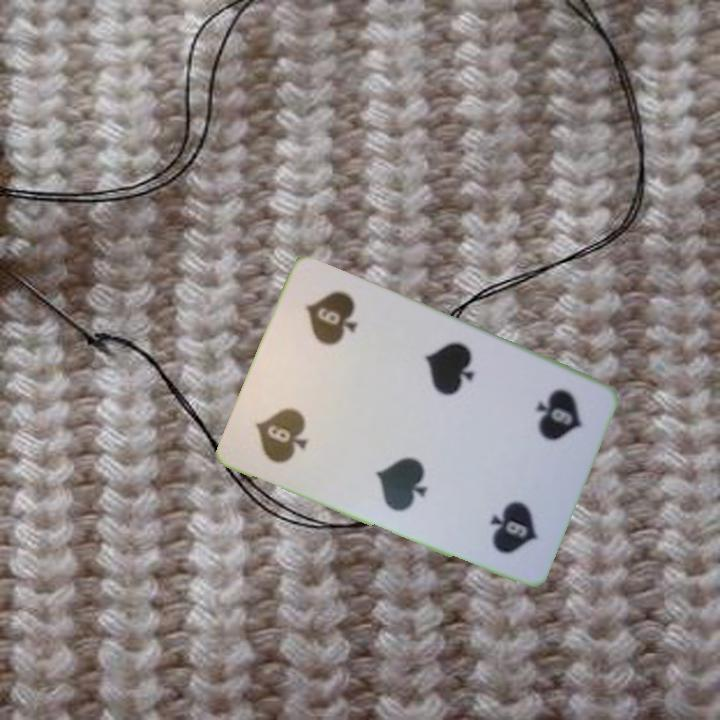s_6.png: (487, 363, 603, 486), (233, 361, 349, 484)
